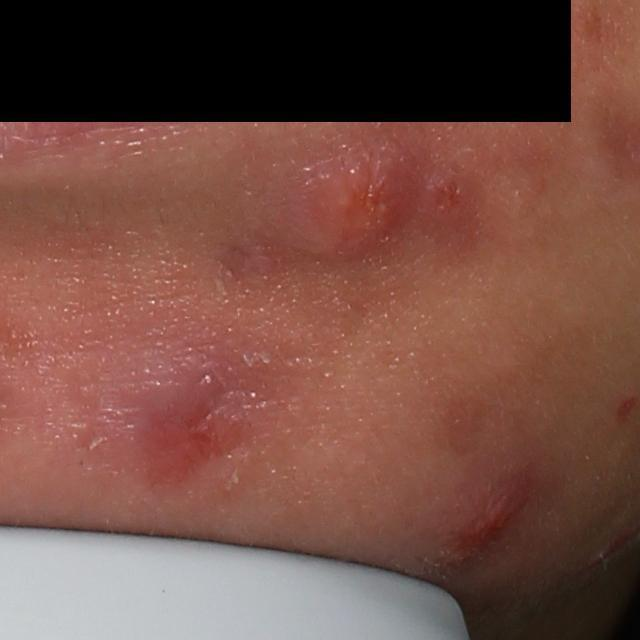nodule: (257, 127, 452, 268), (94, 363, 221, 475)
papule: (438, 475, 535, 572)
